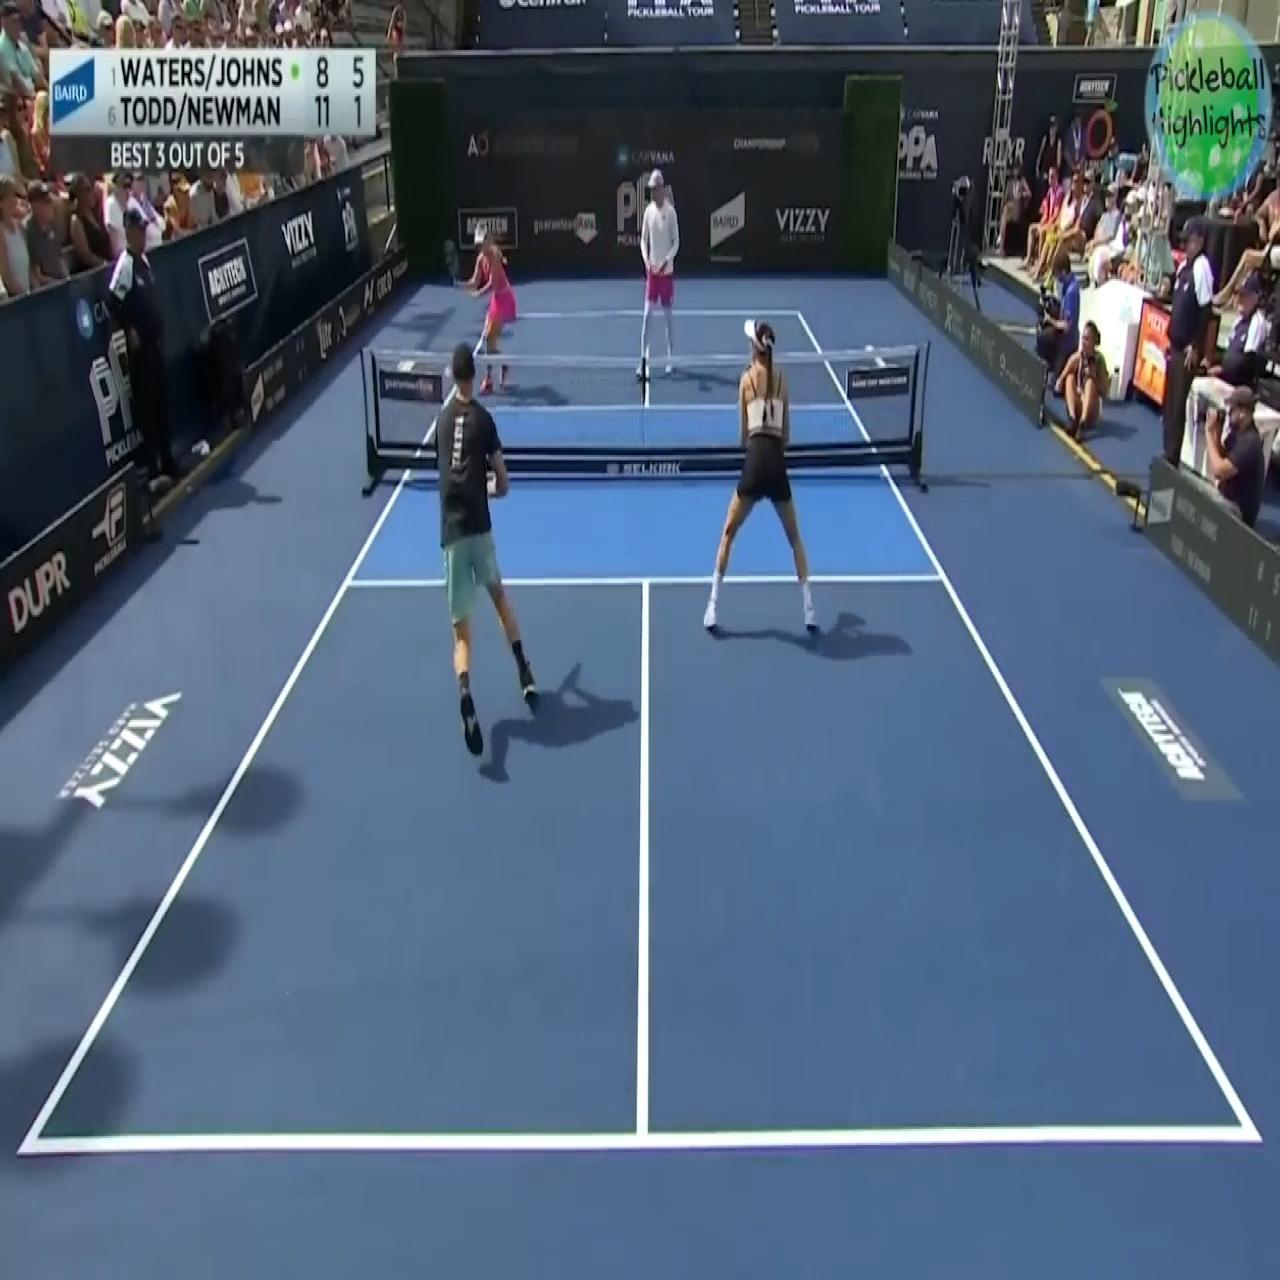Pickleball: (444, 359, 455, 387)
